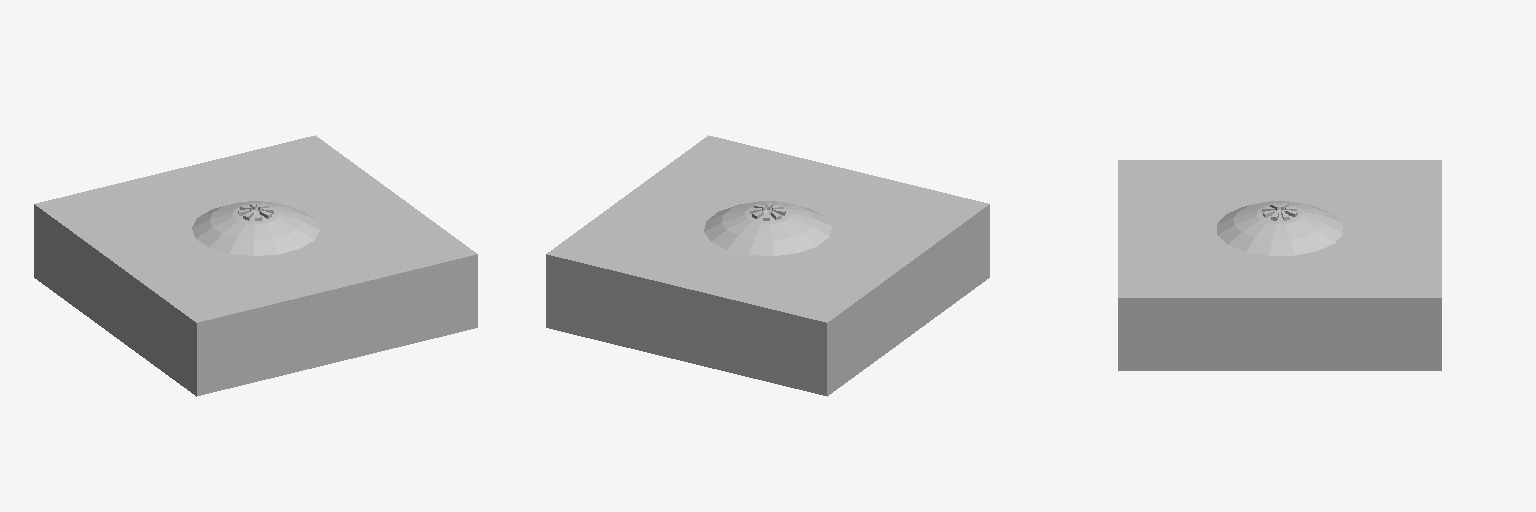
File: docking_module.obj
3 renders of one model, left to right at view 1: azimuth 30°, elevation 25°; view 2: azimuth 150°, elevation 25°; view 3: azimuth 270°, elevation 25°, orthographic.
Parts seen in each view (by area): view 1: Cube2; view 2: Cube2; view 3: Cube2.
Part boxes in pixels (x1,y1,x2,y2): Cube2: (34,135,477,396); Cube2: (546,135,989,396); Cube2: (1118,160,1441,370).
Size of the model in its own units: 4 by 1.27 by 4.